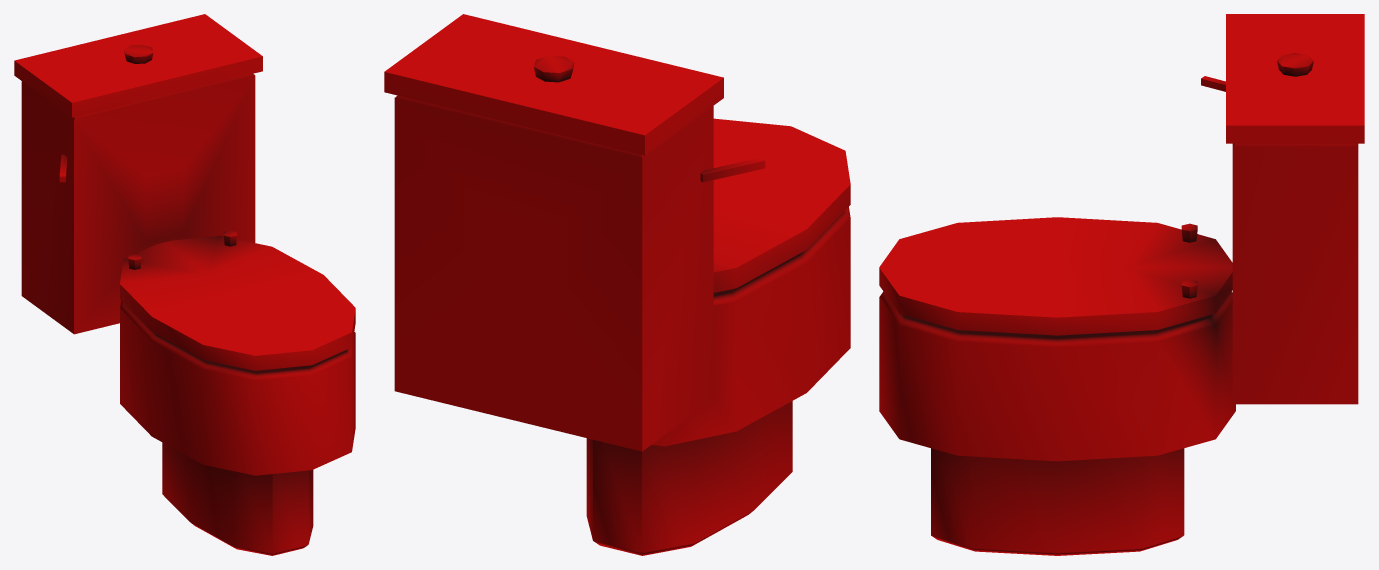
File: CI_Bathroom_Toilet.glb
3 renders of one model, left to right at view 1: azimuth 30°, elevation 25°; view 2: azimuth 150°, elevation 25°; view 3: azimuth 270°, elevation 25°, orthographic. The views are drawn at different scales.
Parts seen in each view (by area): view 1: CI_Bathroom_Toilet; view 2: CI_Bathroom_Toilet; view 3: CI_Bathroom_Toilet.
Part boxes in pixels (left/top/right/bottom): CI_Bathroom_Toilet: left=14, top=14, right=355, bottom=555; CI_Bathroom_Toilet: left=384, top=14, right=850, bottom=555; CI_Bathroom_Toilet: left=879, top=14, right=1364, bottom=555.
Bounding box in the file's own units: 0.4448 × 0.785 × 0.735.
